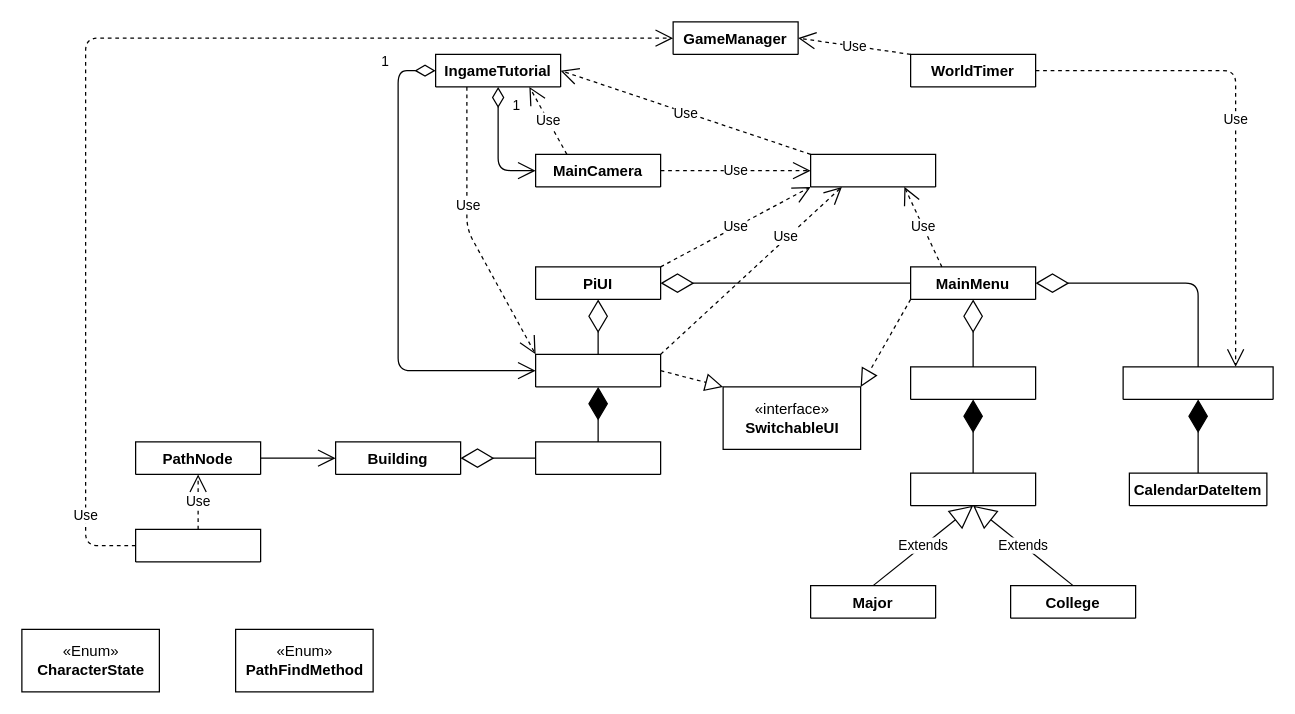
Some shapes in this 1295 by 714 pixel diagram are drawn without their labels. Here are the shapes that lost their labels. From the top down, the centre of each, then its label:
the point at 872,170: MouseManager
the point at 597,370: BuildMenuBar
the point at 972,382: DeptManager
the point at 1197,382: CalendarController
the point at 597,457: BuildingIcon
the point at 972,489: Department
the point at 197,545: CharacterFSM
